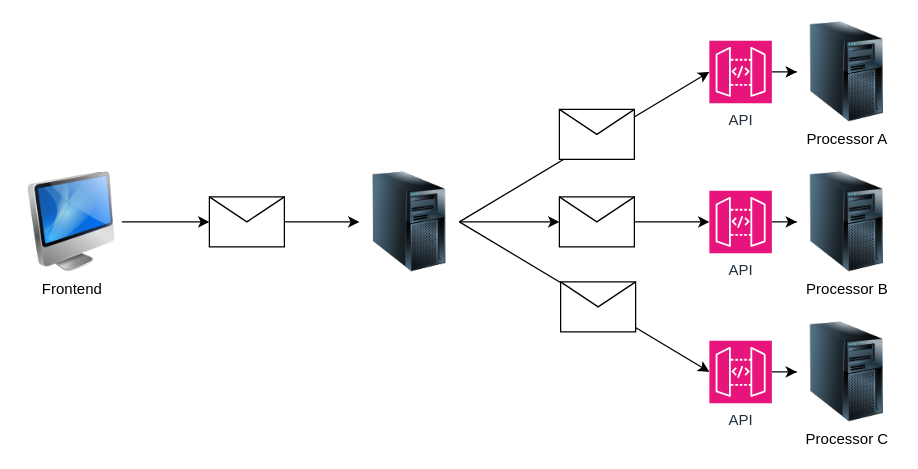
Some shapes in this 918 by 469 pixel diagram are drawn without their labels. The shapes that lost their labels are listed below. From the top down, each one's centre as x and y in pixels, then its label:
At pixel 246 221: "Message".
At pixel 409 221: "Backend Server".
